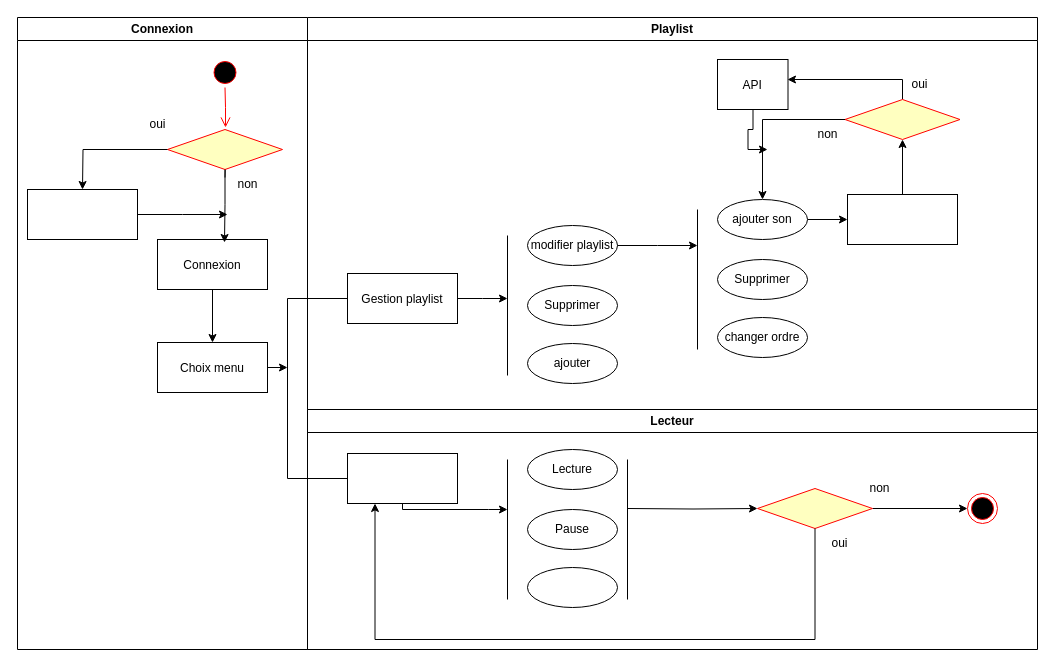
This 1055x667 diagram has some shape labels left out. Here are the shapes that lost their labels. From the top down, the centre of each, then its label:
At point (902, 119): "Telecharger".
At point (224, 149): "Nouvel utilisateur".
At point (82, 214): "Création Utilisateur".
At point (902, 219): "Rechercher".
At point (402, 478): "Jouer playlist".
At point (814, 508): "superposer".
At point (572, 587): "Suivant".
